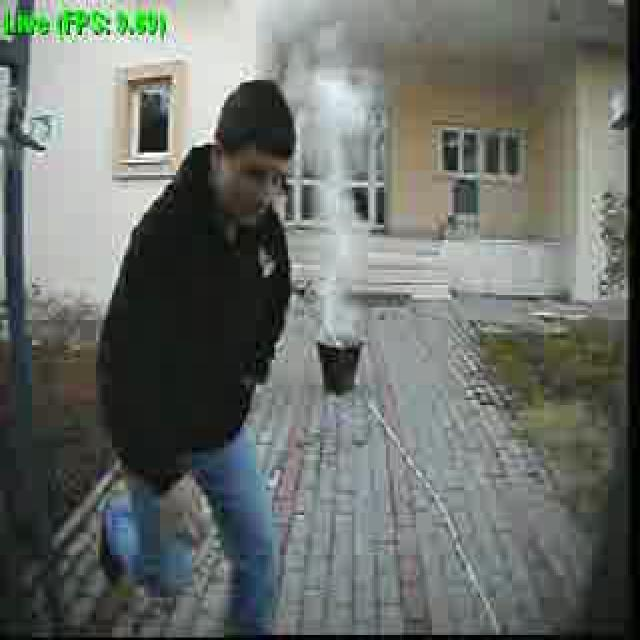Smoke: (304, 58, 374, 340)
